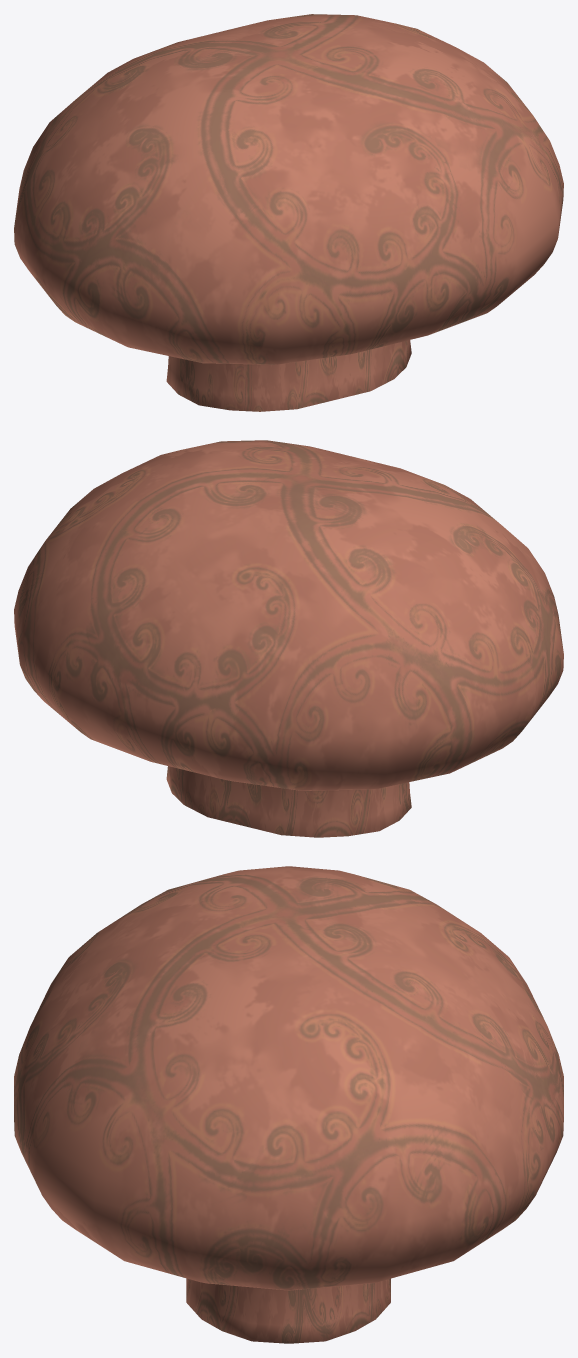
The model's file is tower_dome_1.fbx.
The picture shows the model from 3 angles, top to bottom: view 1: azimuth 30°, elevation 25°; view 2: azimuth 150°, elevation 25°; view 3: azimuth 270°, elevation 25°; orthographic projection. The views are drawn at different scales.
Visible parts, largest first — view 1: dome_golden_top_big:polySurface1066; view 2: dome_golden_top_big:polySurface1066; view 3: dome_golden_top_big:polySurface1066.
Boxes of the visible parts, bbox=[...] form: dome_golden_top_big:polySurface1066: bbox=[14, 14, 563, 411]; dome_golden_top_big:polySurface1066: bbox=[14, 440, 563, 837]; dome_golden_top_big:polySurface1066: bbox=[14, 866, 563, 1343].
Bounding box in the file's own units: 33.32 × 20.54 × 28.21.
